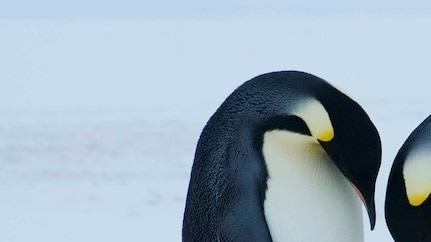Emperor Penguin: (158, 52, 389, 242), (367, 87, 431, 242)
